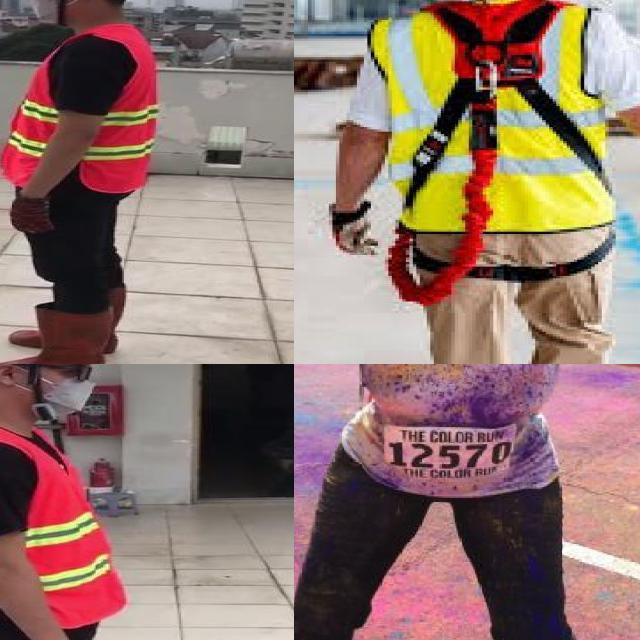Harness: (404, 0, 608, 210)
boots: (10, 288, 124, 358), (0, 308, 111, 364)
face_mask: (8, 364, 104, 421), (18, 0, 76, 25)
hand_glove: (10, 197, 55, 233)
person: (294, 364, 584, 640), (0, 0, 164, 364), (0, 364, 165, 640)
vest: (0, 418, 124, 631), (0, 27, 154, 194)
